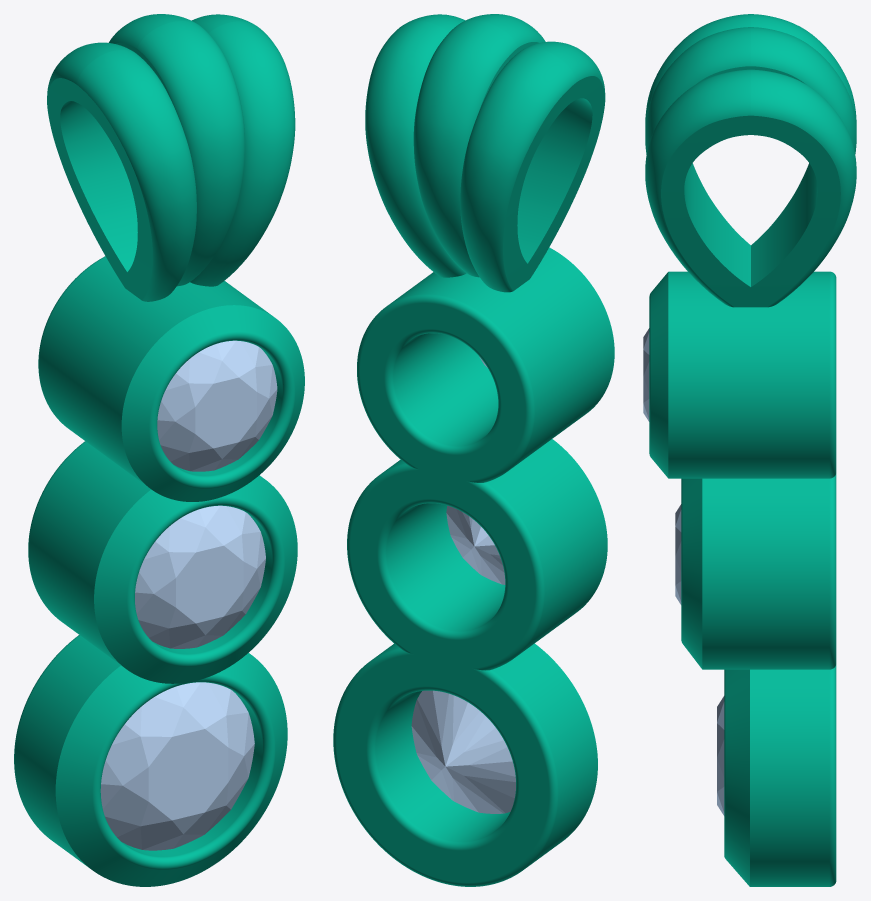
The picture shows the model from 3 angles, left to right: view 1: azimuth 30°, elevation 25°; view 2: azimuth 150°, elevation 25°; view 3: azimuth 270°, elevation 25°; orthographic projection. The views are drawn at different scales.
Parts seen in each view (by area): view 1: Bezel (×3), VBP175.3dm, Diamond_Round (×3); view 2: Bezel (×3), VBP175.3dm, Diamond_Round (×2); view 3: Bezel (×3), VBP175.3dm, Diamond_Round (×3).
Boxes of the visible parts, box(x1,y1,x2,y2) form: Bezel (×3): box(14, 256, 304, 886); VBP175.3dm: box(47, 14, 295, 301); Diamond_Round (×3): box(100, 340, 277, 850); Bezel (×3): box(333, 247, 614, 886); VBP175.3dm: box(365, 14, 605, 292); Diamond_Round (×2): box(411, 505, 515, 813); Bezel (×3): box(649, 271, 836, 886); VBP175.3dm: box(645, 14, 856, 307); Diamond_Round (×3): box(643, 328, 724, 815).
Bounding box in the file's own units: 1.06 × 3.76 × 0.8629.
